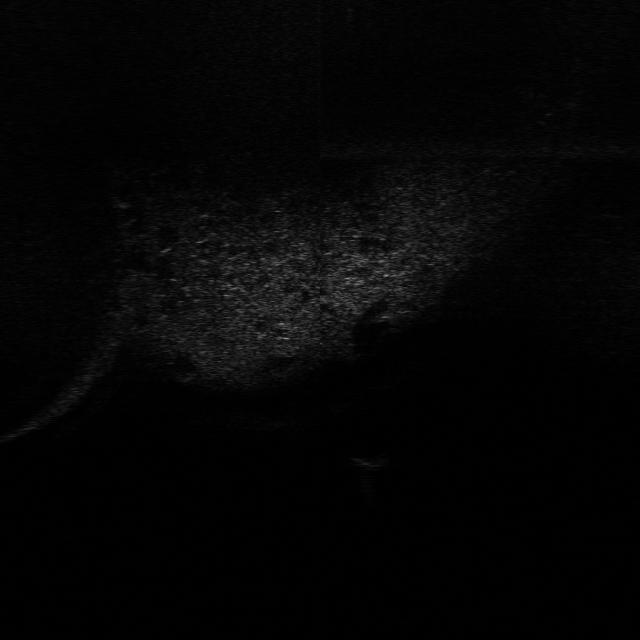cube: (342, 446, 397, 472)
